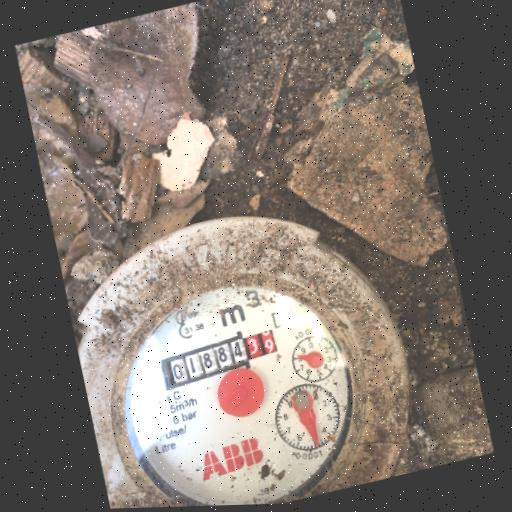0: (168, 356, 188, 383)
1: (183, 351, 203, 379)
3: (244, 333, 264, 360)
4: (228, 337, 248, 364)
8: (213, 342, 233, 370), (199, 347, 218, 374)
9: (258, 328, 278, 354)
border_water_meter_number: (159, 328, 279, 386)
